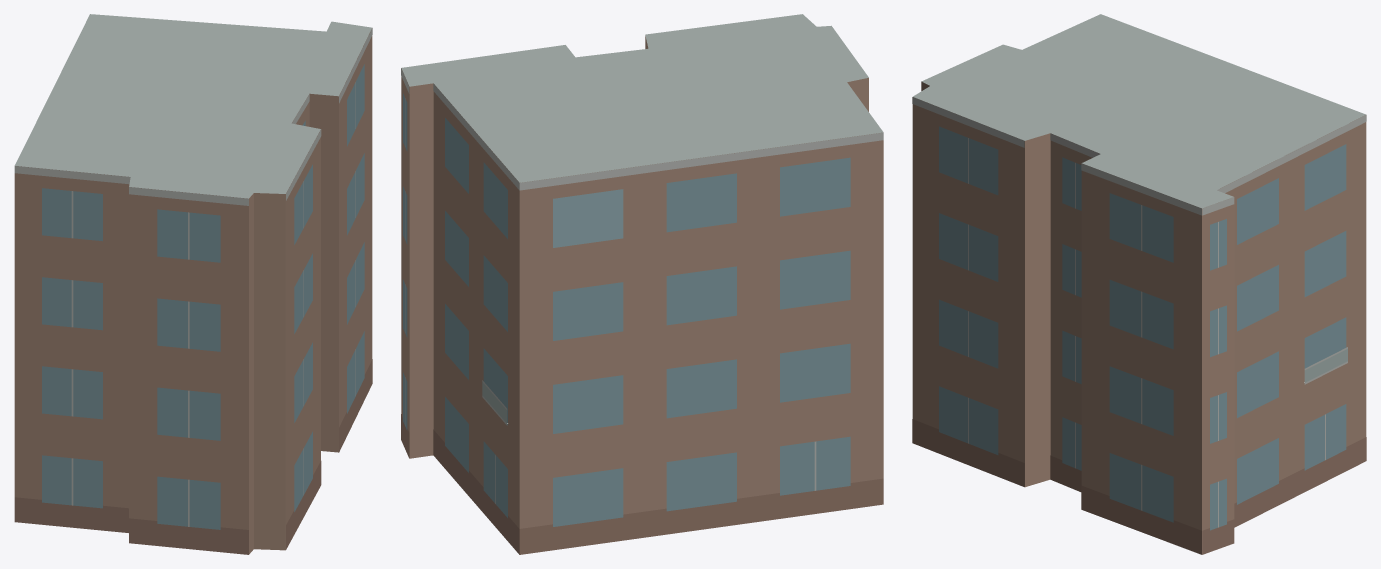
The model's file is survey-upis-32622489.glb.
3 renders of one model, left to right at view 1: azimuth 30°, elevation 25°; view 2: azimuth 150°, elevation 25°; view 3: azimuth 270°, elevation 25°, orthographic. The views are drawn at different scales.
Parts seen in each view (by area): view 1: survey-upis-32622489.tmp; view 2: survey-upis-32622489.tmp; view 3: survey-upis-32622489.tmp.
Part boxes in pixels (x1,y1,x2,y2): survey-upis-32622489.tmp: [14, 14, 372, 554]; survey-upis-32622489.tmp: [401, 14, 883, 554]; survey-upis-32622489.tmp: [912, 14, 1366, 554].
Size of the model in its own units: 14.09 by 11.7 by 13.9.
